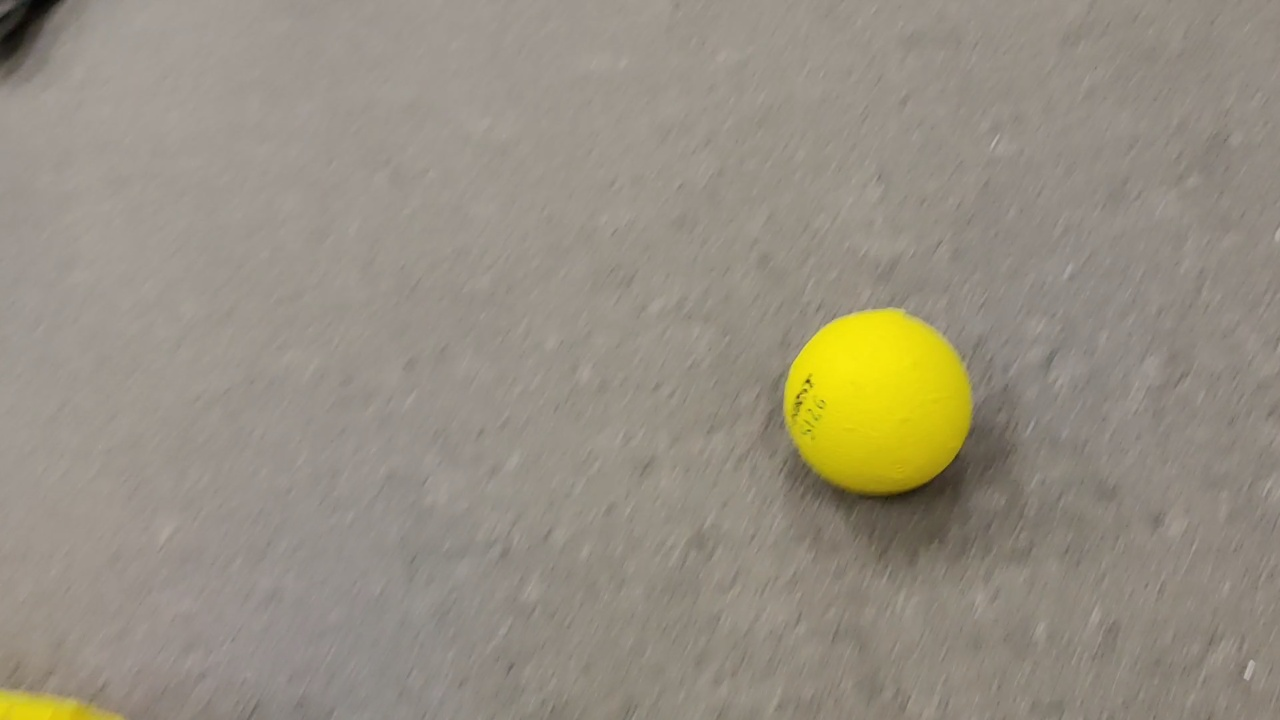Ball: (781, 307, 977, 495)
